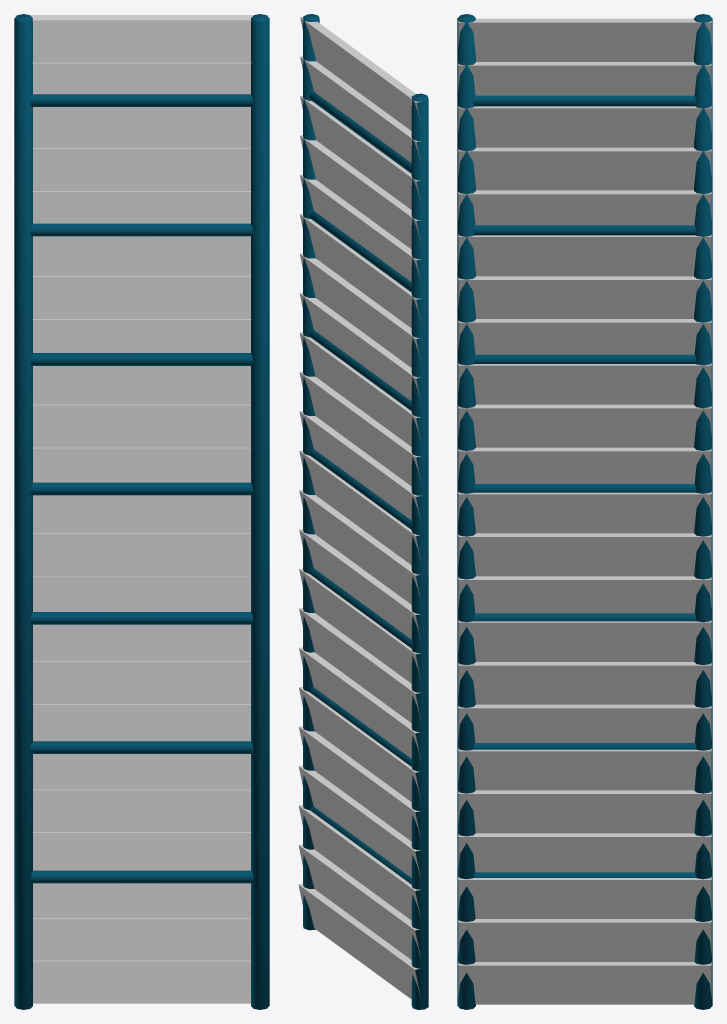
File: Ladder 1.fbx
The picture shows the model from 3 angles, left to right: view 1: azimuth 90°, elevation 25°; view 2: azimuth 210°, elevation 25°; view 3: azimuth 270°, elevation 25°; orthographic projection. The views are drawn at different scales.
Parts seen in each view (by area): view 1: Cube, Ladder; view 2: Cube, Ladder; view 3: Cube, Ladder.
Part boxes in pixels (box(x1,y1,x2,y2)): Cube: box(15, 15, 268, 1003); Ladder: box(14, 14, 269, 1009); Cube: box(298, 17, 421, 999); Ladder: box(303, 14, 428, 1009); Cube: box(458, 18, 711, 1004); Ladder: box(457, 14, 712, 1009).
Size of the model in its own units: 12.65 by 669 by 157.
